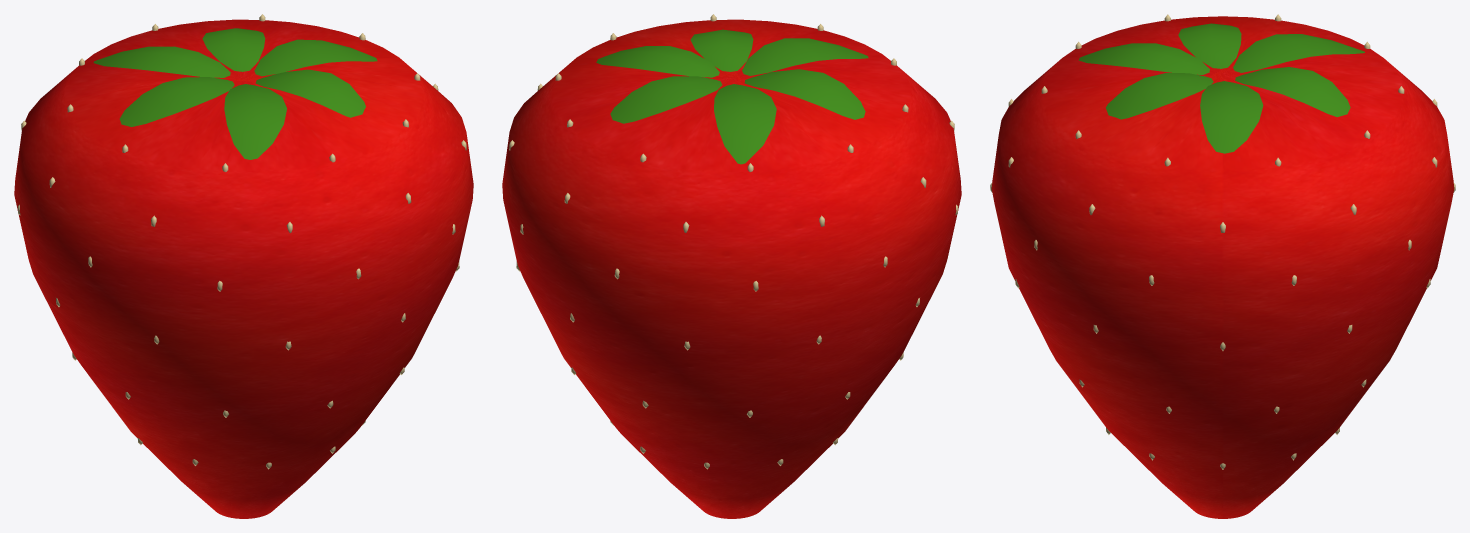
File: strawberry-B7uWbK4C.glb
3 renders of one model, left to right at view 1: azimuth 30°, elevation 25°; view 2: azimuth 150°, elevation 25°; view 3: azimuth 270°, elevation 25°, orthographic.
Visible parts, largest first — view 1: FLV5_Strawberry; view 2: FLV5_Strawberry; view 3: FLV5_Strawberry.
Part boxes in pixels (left/top/right/bottom): FLV5_Strawberry: left=14, top=14, right=473, bottom=518; FLV5_Strawberry: left=502, top=14, right=961, bottom=518; FLV5_Strawberry: left=990, top=14, right=1455, bottom=518.
Size of the model in its own units: 0.95 by 0.9995 by 0.9547.
Materials: 3 (1 with a texture image).
